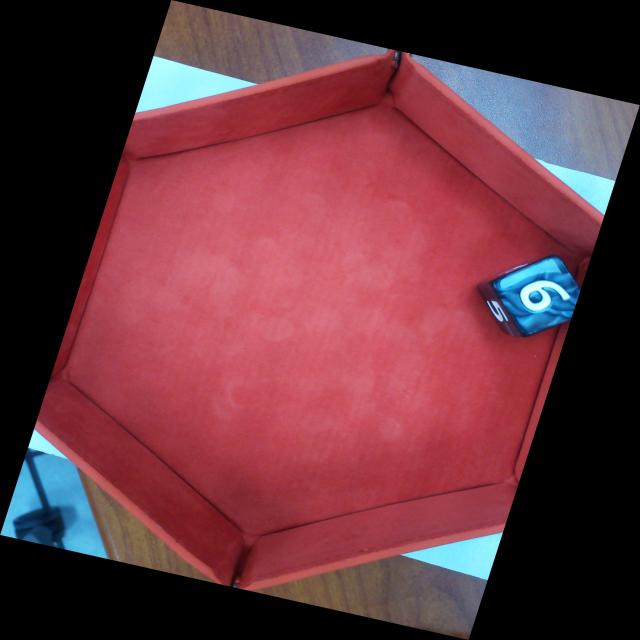dice: (500, 262, 579, 334)
